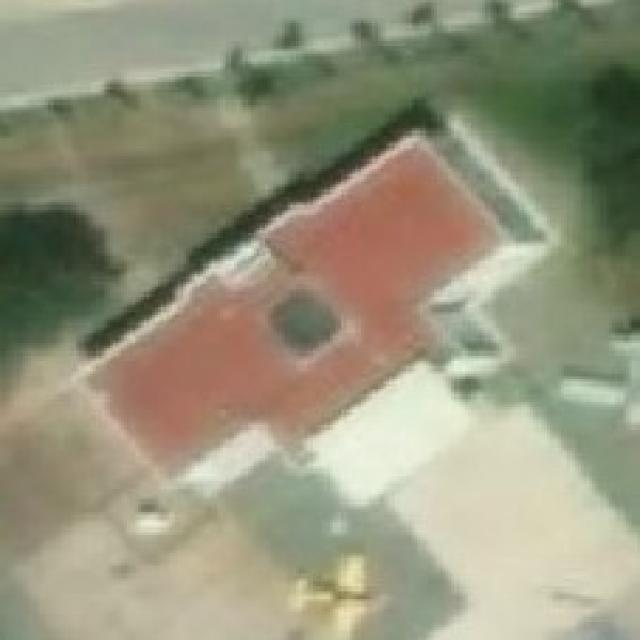Batiment: (91, 138, 497, 471)
